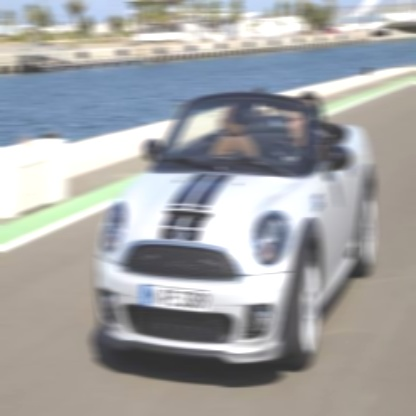Vehicle: (96, 91, 376, 374)
